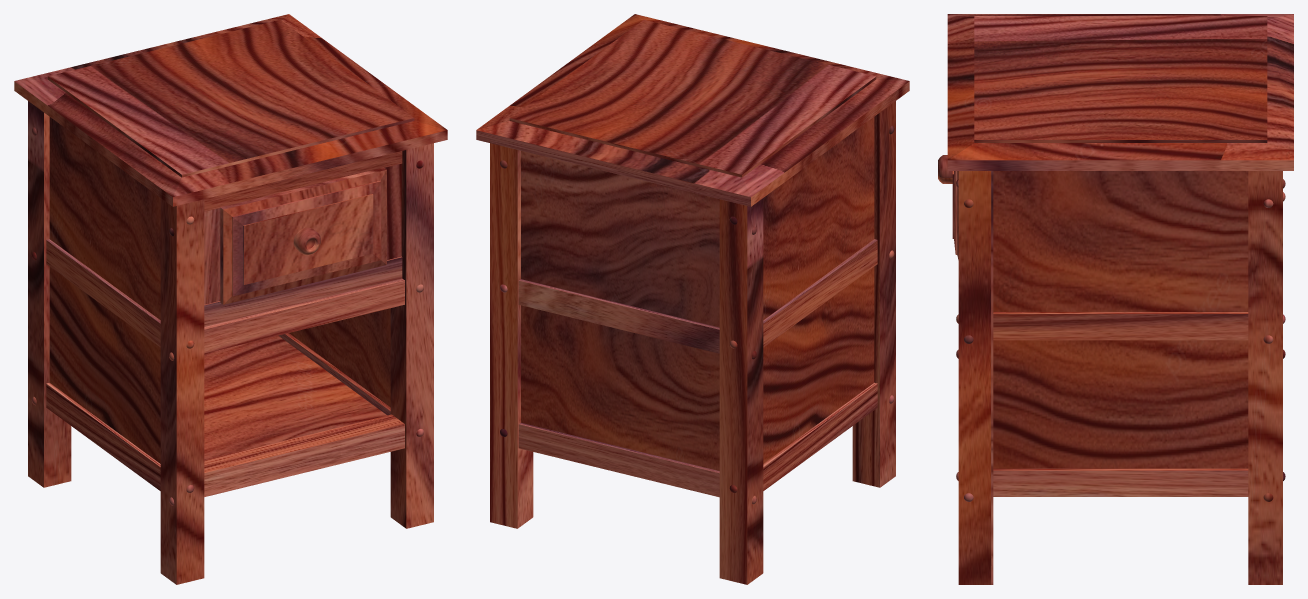
Rendered from Drawer(Final) .glb.
The picture shows the model from 3 angles, left to right: view 1: azimuth 30°, elevation 25°; view 2: azimuth 150°, elevation 25°; view 3: azimuth 270°, elevation 25°; orthographic projection. The views are drawn at different scales.
Parts seen in each view (by area): view 1: Drawer top; view 2: Drawer top; view 3: Drawer top.
Part boxes in pixels (x1=…): Drawer top: x1=14, y1=14, x2=447, y2=584; Drawer top: x1=476, y1=14, x2=909, y2=584; Drawer top: x1=938, y1=14, x2=1293, y2=584.
Size of the model in its own units: 2.39 by 3.34 by 2.46.
1 material, 1 textured.
